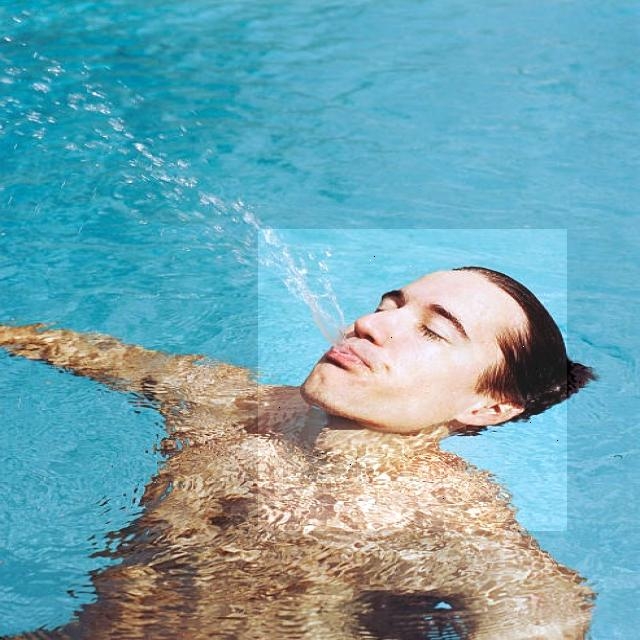Spitting: (258, 229, 567, 531)
